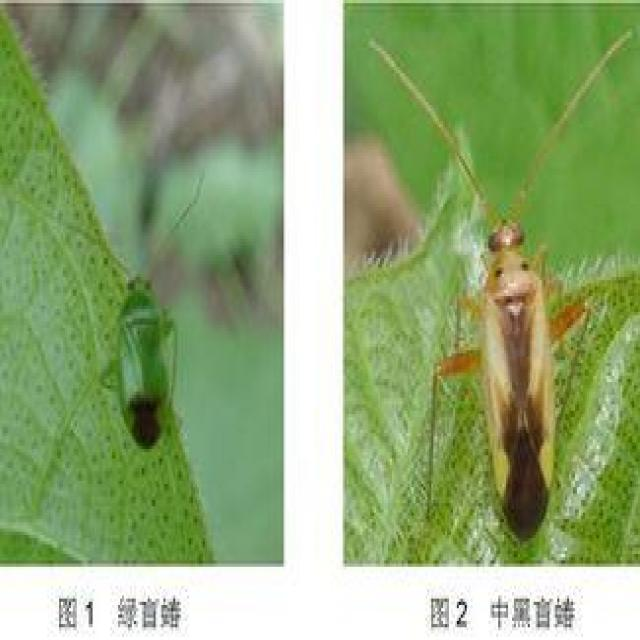Miridae-Adult-: (377, 18, 598, 550), (61, 174, 206, 459)
